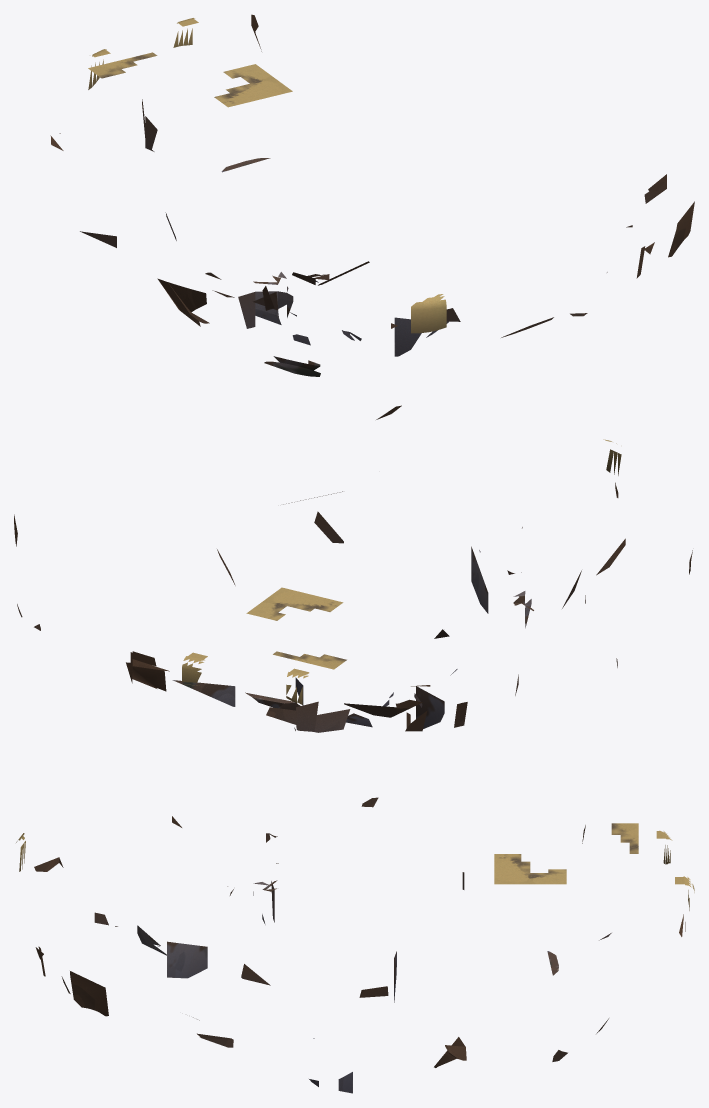
3 renders of one model, top to bottom at view 1: azimuth 30°, elevation 25°; view 2: azimuth 150°, elevation 25°; view 3: azimuth 270°, elevation 25°, orthographic. The views are drawn at different scales.
Visible parts, largest first — view 1: Grass_-1_2_0, Grass_-2_-5_0_000, Dirt_-5_-3_0, Columns_-3_-2_-1, Columns_-1_-2_-2_100_010, Grass_-2_3_0, Columns_-4_-4_-1_100; view 2: Grass_-1_2_0, Dirt_-2_3_-1_110, Columns_-2_0_-2_010, Columns_0_3_-1_000, Dirt_0_4_0_111, Dirt_-2_3_-1_000_110, Grass_-2_3_0, Columns_-1_-3_-1_011; view 3: Grass_-1_2_0, Columns_-1_-3_-1_011, Dirt_2_-4_0_101, Grass_-2_3_0.
Part boxes in pixels (<box>): Grass_-1_2_0: <box>214,64,292,107</box>; Grass_-2_-5_0_000: <box>411,294,446,333</box>; Dirt_-5_-3_0: <box>157,278,209,326</box>; Columns_-3_-2_-1: <box>253,272,293,324</box>; Columns_-1_-2_-2_100_010: <box>394,317,421,356</box>; Grass_-2_3_0: <box>88,52,157,78</box>; Columns_-4_-4_-1_100: <box>264,356,320,376</box>; Grass_-1_2_0: <box>246,587,343,620</box>; Dirt_-2_3_-1_110: <box>266,701,318,732</box>; Columns_-2_0_-2_010: <box>416,686,444,728</box>; Columns_0_3_-1_000: <box>172,680,235,706</box>; Dirt_0_4_0_111: <box>126,662,166,691</box>; Dirt_-2_3_-1_000_110: <box>314,709,350,732</box>; Grass_-2_3_0: <box>273,651,346,669</box>; Columns_-1_-3_-1_011: <box>471,546,488,613</box>; Grass_-1_2_0: <box>494,854,566,884</box>; Columns_-1_-3_-1_011: <box>167,941,207,978</box>; Dirt_2_-4_0_101: <box>70,971,108,1016</box>; Grass_-2_3_0: <box>611,823,638,853</box>.
Size of the model in its own units: 593 by 181 by 604.
61 materials, 61 textured.
